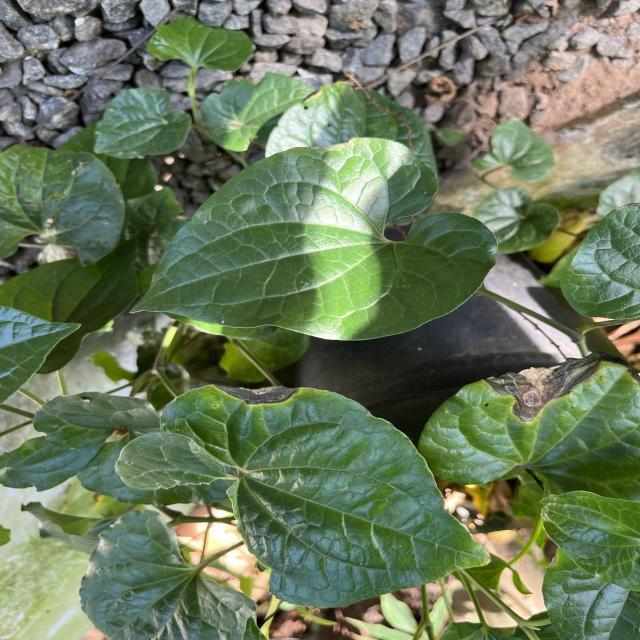Piper longum: (126, 135, 501, 344)
